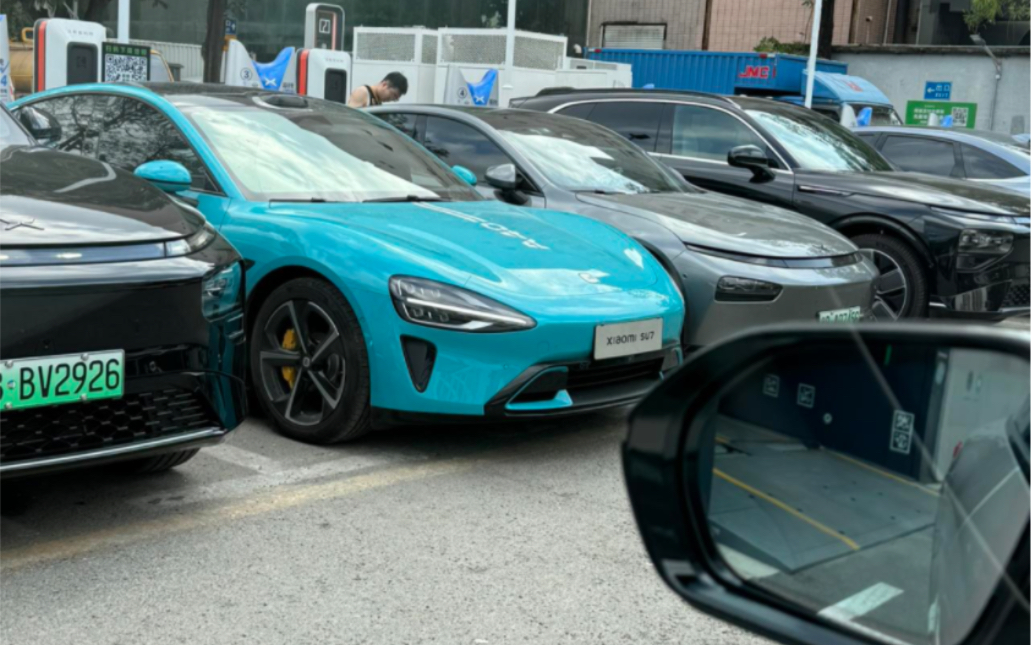other: (494, 95, 893, 364), (0, 104, 262, 511), (667, 83, 1031, 319)
su7: (128, 72, 722, 480)
